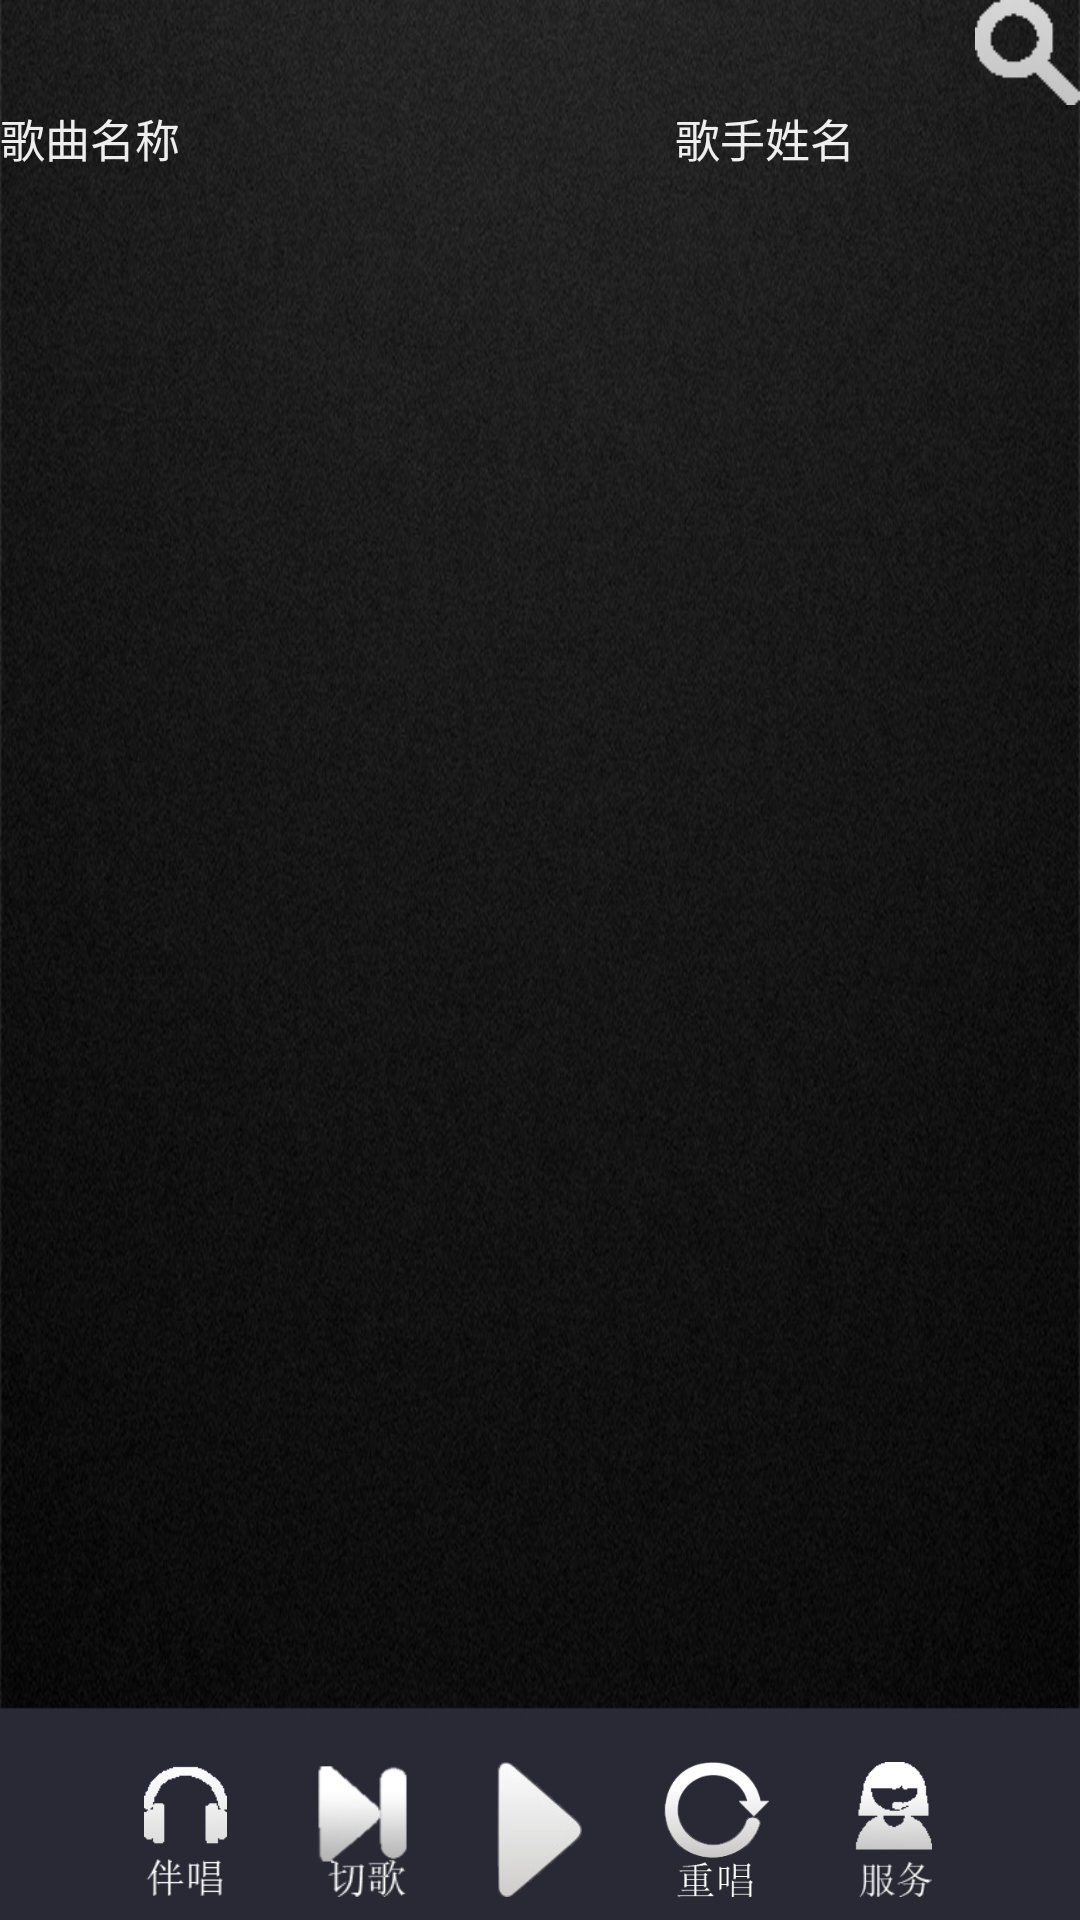

Locate icon controls on the screen. Image size 1080 × 1920, boxes as {"left": x1, "top": y1, "right": x2, "bottom": y2}.
play: {"left": 497, "top": 1762, "right": 582, "bottom": 1897}
search: {"left": 975, "top": 0, "right": 1080, "bottom": 105}
